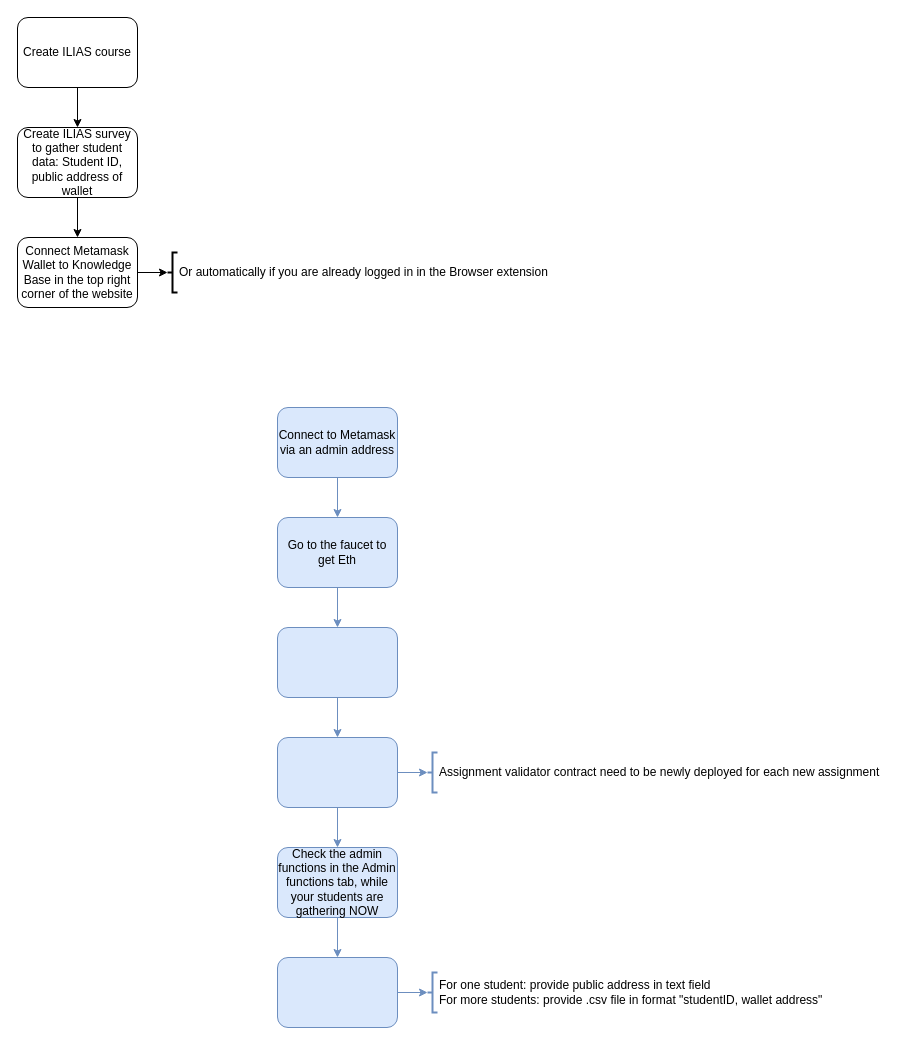
This 897x1045 diagram has some shape labels left out. Here are the shapes that lost their labels. From the top down, the centre of each, then its label:
At point (337, 662): "Create a semester in the Semester tab".
At point (337, 772): "Create the assignments for the semester in the Assignments tab".
At point (337, 992): "Check the Knowledge of one or many students in the Coin Overview tab".
